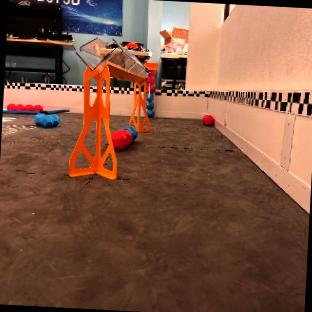Goal: (69, 38, 147, 179), (132, 62, 156, 130)
Parking - B: (2, 109, 69, 114)
V5_BLUE: (35, 112, 59, 127), (126, 126, 137, 139), (147, 106, 154, 117)
V5_RED: (111, 128, 131, 150), (7, 104, 41, 110), (202, 116, 214, 125)
